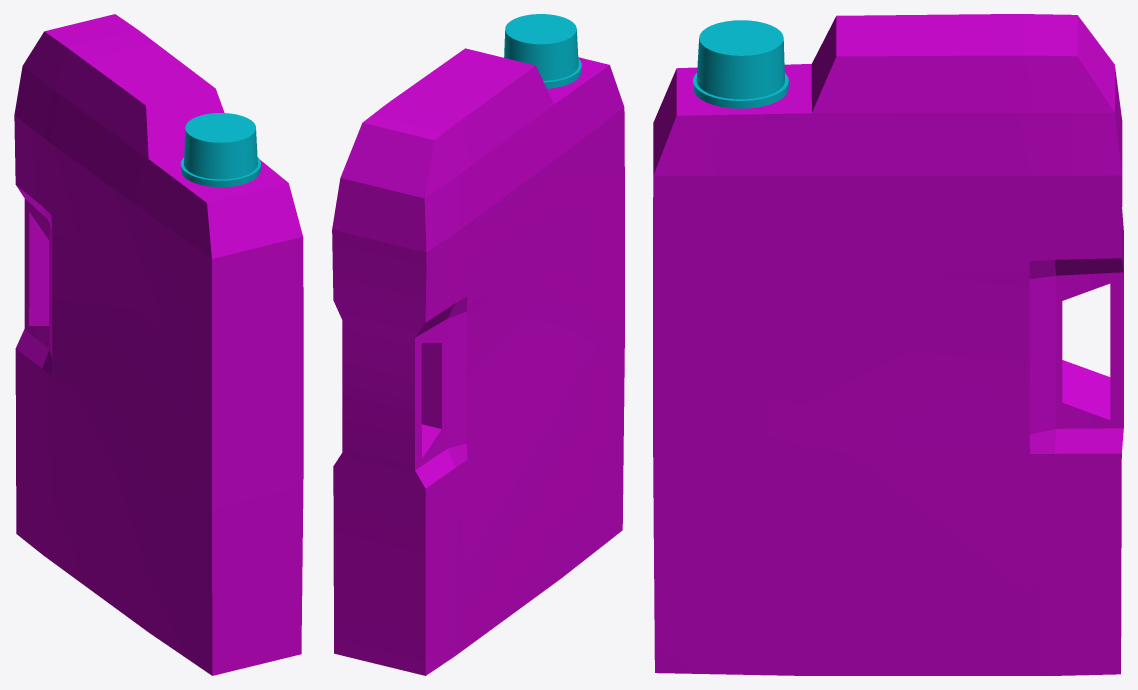
The model's file is Канистра Low.fbx.
The picture shows the model from 3 angles, left to right: view 1: azimuth 30°, elevation 25°; view 2: azimuth 150°, elevation 25°; view 3: azimuth 270°, elevation 25°; orthographic projection. The views are drawn at different scales.
Visible parts, largest first — view 1: Канистра Low; view 2: Канистра Low; view 3: Канистра Low.
Part boxes in pixels (x1,y1,x2,y2): Канистра Low: (14, 14, 303, 675); Канистра Low: (332, 14, 624, 675); Канистра Low: (653, 14, 1123, 675).
Bounding box in the file's own units: 45.92 × 232 × 161.
